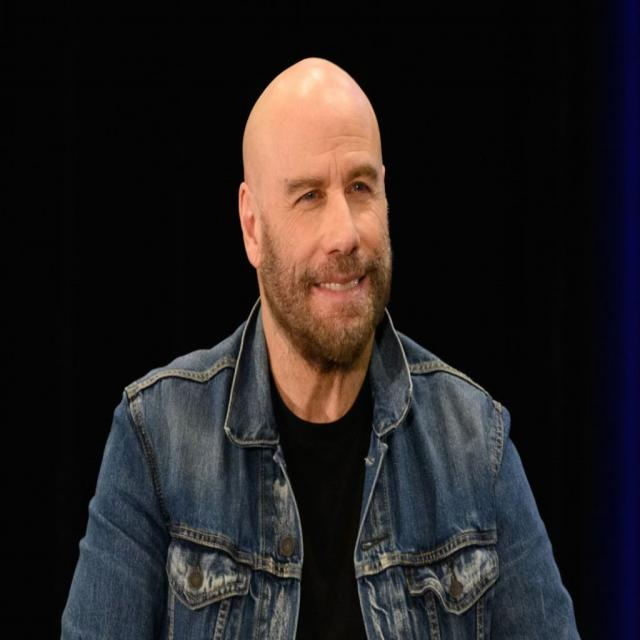beard: (256, 223, 392, 373)
